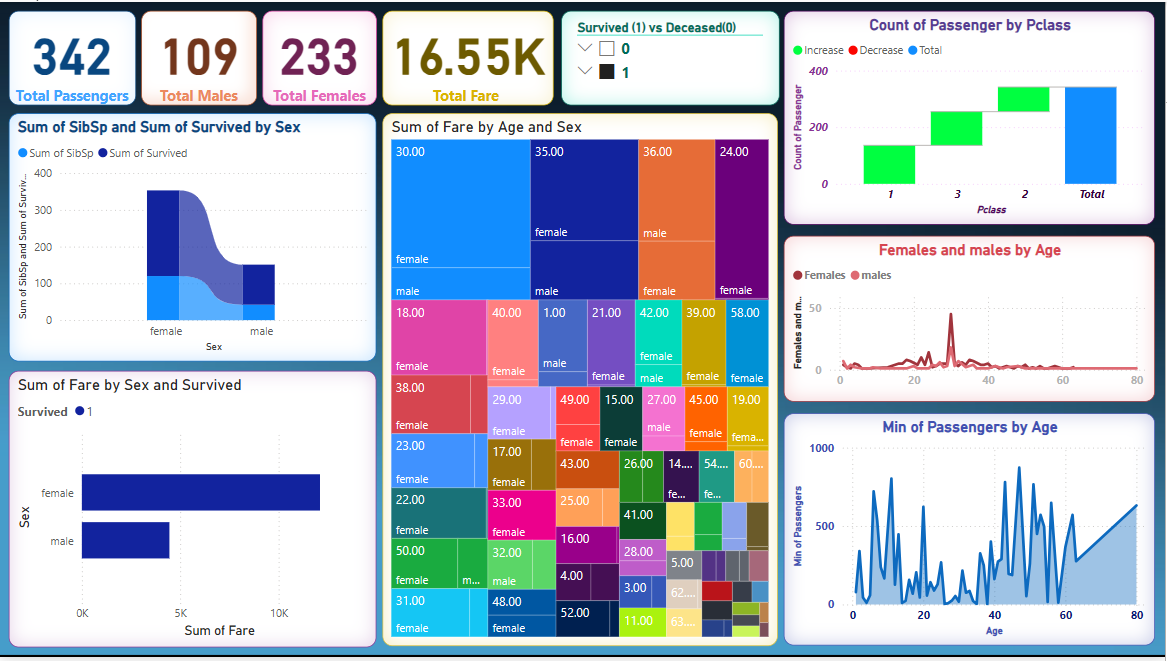

What the dashboard file says about the page in this screenshot:
{"tool":"powerbi","page":{"name":"Page 1","canvas":[1280,720],"ordinal":0},"visuals":[{"type":"card","fields":{"Values":["CountNonNull(Titanic-Dataset.PassengerId)"]},"box":[10,10,139.8,104.2],"z":0},{"type":"card","fields":{"Values":["CountNonNull(Titanic-Dataset.Sex - Copy)"]},"box":[155.5,10,127,104.2],"z":1000},{"type":"card","fields":{"Values":["CountNonNull(Titanic-Dataset.Sex - Copy.1)"]},"box":[288.2,10,125.6,104.2],"z":2000},{"type":"slicer","fields":{"Values":["Titanic-Dataset.Survived","Titanic-Dataset.PassengerId"]},"box":[616.5,10,239.7,104.2],"z":3000},{"type":"lineChart","fields":{"Category":["Titanic-Dataset.Age"],"Y":["CountNonNull(Titanic-Dataset.Sex - Copy.1)","CountNonNull(Titanic-Dataset.Sex - Copy)"]},"box":[861.9,256.9,408.1,182.7],"z":4000},{"type":"card","fields":{"Values":["Sum(Titanic-Dataset.Fare)"]},"box":[421,10,188.4,104.2],"z":5000},{"type":"areaChart","fields":{"Category":["Titanic-Dataset.Age"],"Y":["Min(Titanic-Dataset.PassengerId)"]},"box":[861.9,452.4,408.1,255.4],"z":6000},{"type":"waterfallChart","fields":{"Y":["CountNonNull(Titanic-Dataset.PassengerId)"],"Category":["Titanic-Dataset.Pclass"]},"box":[861.9,10,408.1,235.5],"z":6001},{"type":"ribbonChart","fields":{"Y":["Sum(Titanic-Dataset.SibSp)","Sum(Titanic-Dataset.Survived)"],"Category":["Titanic-Dataset.Sex"]},"box":[10,122.7,403.8,272.6],"z":6002},{"type":"treemap","fields":{"Details":["Titanic-Dataset.Sex"],"Group":["Titanic-Dataset.Age"],"Values":["Sum(Titanic-Dataset.Fare)"]},"box":[420.5,122.6,434.7,585.8],"z":6003},{"type":"clusteredBarChart","fields":{"Y":["Sum(Titanic-Dataset.Fare)"],"Category":["Titanic-Dataset.Sex"],"Series":["Titanic-Dataset.Survived"]},"box":[10,405.3,403.8,303.9],"z":6004}]}

Visuals, with their boxes in screenshot pixels (x1, y1, x2, y2), scaled from the page's 1280x720 canvas onto the 1167x661 screenshot:
card - CountNonNull(Titanic-Dataset.PassengerId): 9 9 137 105
card - CountNonNull(Titanic-Dataset.Sex - Copy): 142 9 258 105
card - CountNonNull(Titanic-Dataset.Sex - Copy.1): 263 9 377 105
slicer - Titanic-Dataset.Survived x Titanic-Dataset.PassengerId: 562 9 781 105
lineChart - Titanic-Dataset.Age x CountNonNull(Titanic-Dataset.Sex - Copy.1): 786 236 1158 404
card - Sum(Titanic-Dataset.Fare): 384 9 556 105
areaChart - Titanic-Dataset.Age x Min(Titanic-Dataset.PassengerId): 786 415 1158 650
waterfallChart - CountNonNull(Titanic-Dataset.PassengerId) x Titanic-Dataset.Pclass: 786 9 1158 225
ribbonChart - Sum(Titanic-Dataset.SibSp) x Sum(Titanic-Dataset.Survived): 9 113 377 363
treemap - Titanic-Dataset.Sex x Titanic-Dataset.Age: 383 113 780 650
clusteredBarChart - Sum(Titanic-Dataset.Fare) x Titanic-Dataset.Sex: 9 372 377 651
